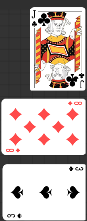3C: (5, 213, 23, 220)
JC: (30, 10, 38, 29), (77, 72, 85, 89)
